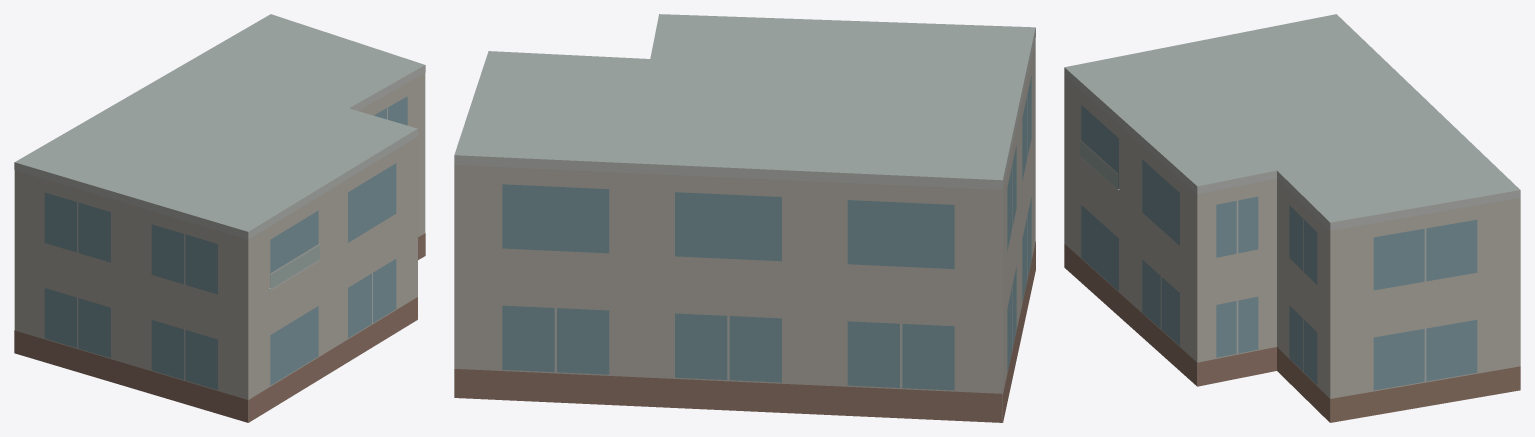
The model's file is survey-upis-32775358.glb.
3 views of the same model, side by side, from view 1: azimuth 30°, elevation 25°; view 2: azimuth 150°, elevation 25°; view 3: azimuth 270°, elevation 25° (orthographic). The views are drawn at different scales.
Visible parts, largest first — view 1: survey-upis-32775358.tmp; view 2: survey-upis-32775358.tmp; view 3: survey-upis-32775358.tmp.
Part boxes in pixels (bbox=[...]): survey-upis-32775358.tmp: bbox=[14, 14, 425, 422]; survey-upis-32775358.tmp: bbox=[454, 14, 1035, 422]; survey-upis-32775358.tmp: bbox=[1064, 14, 1520, 422].
Size of the model in its own units: 13.64 by 6.1 by 12.61.
